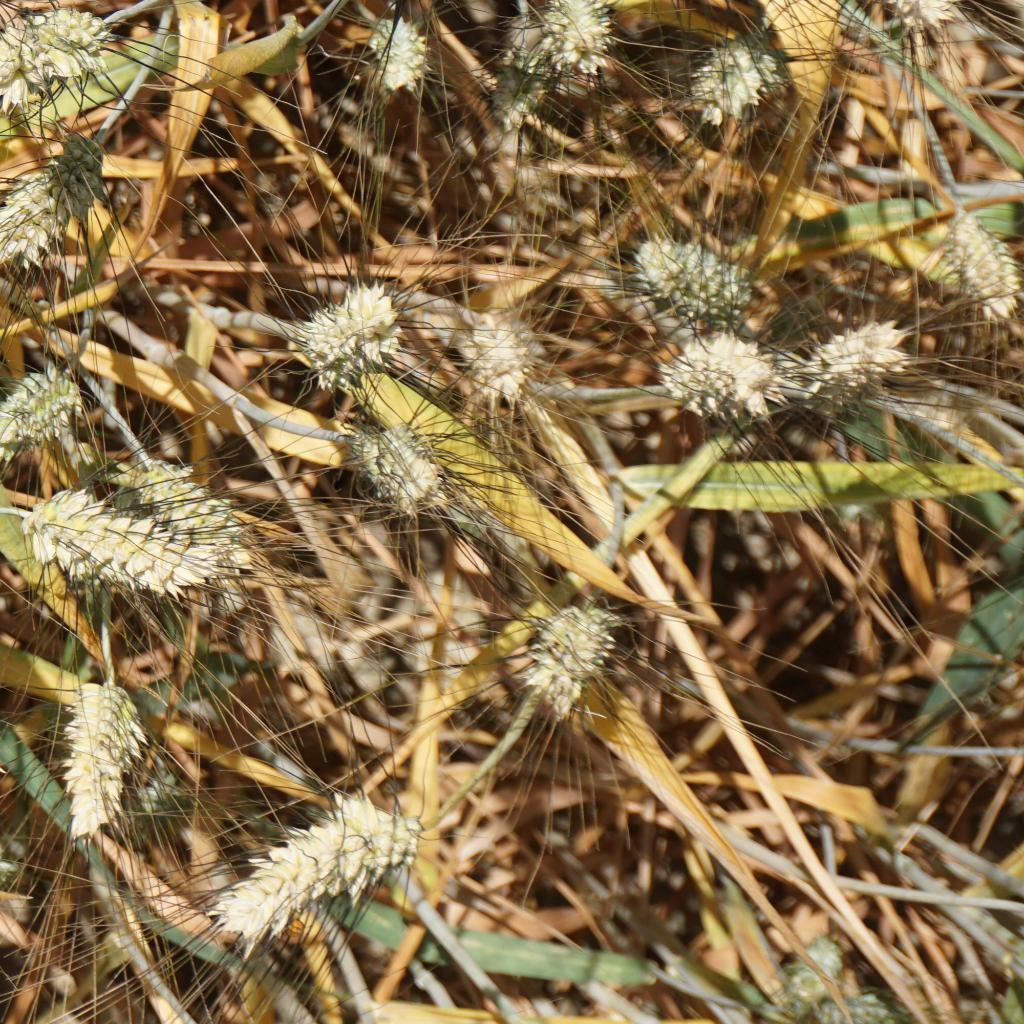0-0: (232, 783, 410, 918), (16, 500, 190, 593), (54, 681, 151, 830), (128, 453, 246, 560), (520, 607, 622, 709), (0, 0, 110, 93), (296, 281, 401, 372), (940, 209, 1024, 321), (672, 330, 777, 419), (809, 317, 901, 407), (352, 423, 449, 507), (0, 366, 83, 461), (459, 309, 538, 406), (640, 242, 743, 314), (691, 35, 783, 112), (0, 168, 62, 271), (546, 0, 613, 76), (783, 933, 845, 1015), (366, 16, 432, 92), (45, 131, 109, 204), (480, 32, 531, 119), (830, 988, 897, 1024), (0, 826, 25, 901)
